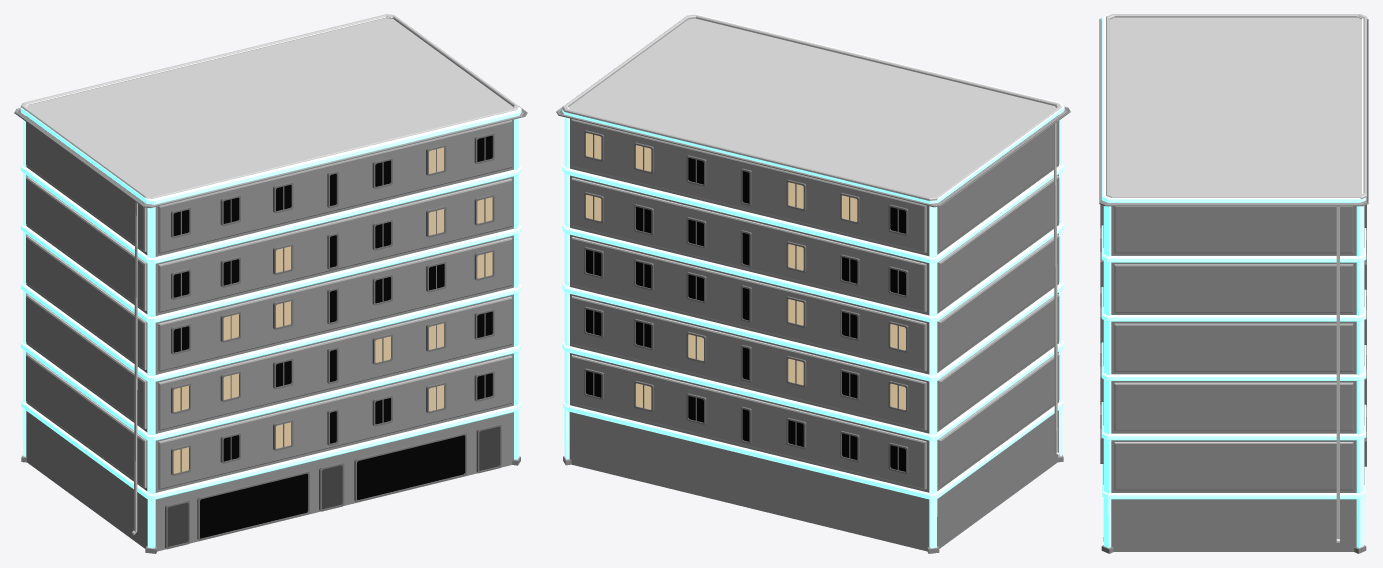
File: Building_Big_0_Size_3.fbx
3 renders of one model, left to right at view 1: azimuth 30°, elevation 25°; view 2: azimuth 150°, elevation 25°; view 3: azimuth 270°, elevation 25°, orthographic.
Visible parts, largest first — view 1: Building_Big_0_Size_3; view 2: Building_Big_0_Size_3; view 3: Building_Big_0_Size_3.
Boxes of the visible parts, x1,y1,x2,y2 form: Building_Big_0_Size_3: [14, 14, 527, 553]; Building_Big_0_Size_3: [556, 14, 1070, 553]; Building_Big_0_Size_3: [1099, 14, 1368, 553].
Bounding box in the file's own units: 2614 × 2306 × 1579.
